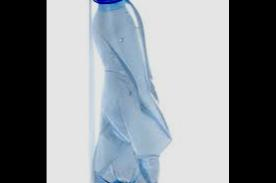Plastic: (81, 0, 177, 182)
